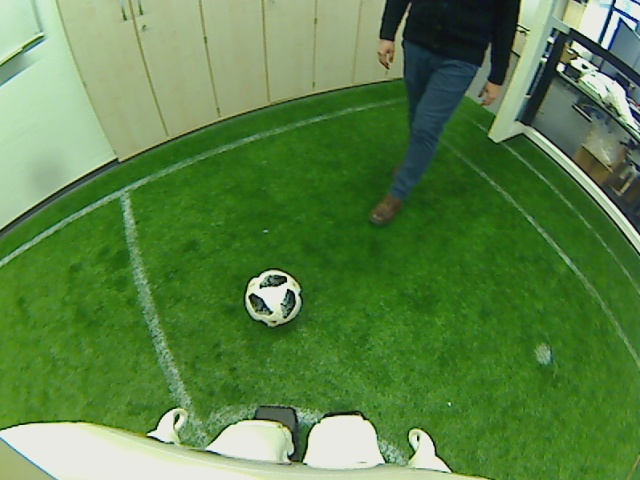ball: (243, 267, 303, 326)
